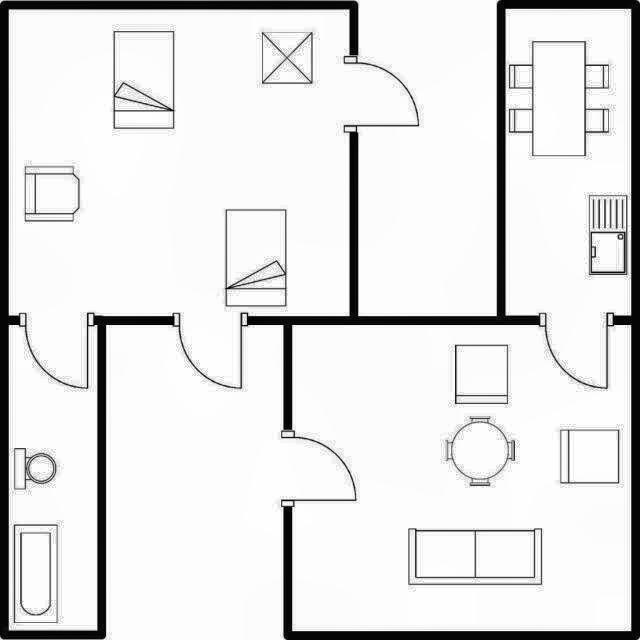room: (9, 11, 349, 316), (292, 326, 630, 630), (505, 10, 631, 316), (9, 325, 97, 630)
